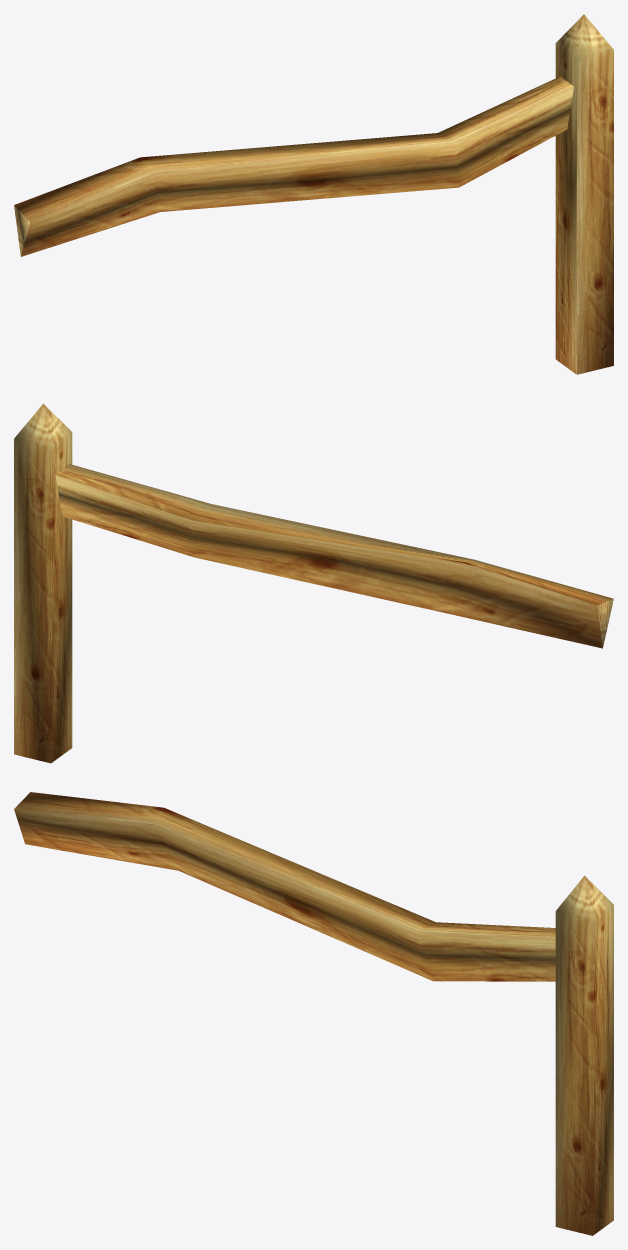
Rendered from elwynnfencetop.obj.
3 renders of one model, top to bottom at view 1: azimuth 30°, elevation 25°; view 2: azimuth 150°, elevation 25°; view 3: azimuth 330°, elevation 25°, orthographic.
Visible parts, largest first — view 1: elwynnfencetop; view 2: elwynnfencetop; view 3: elwynnfencetop.
Boxes of the visible parts, <box> form: elwynnfencetop: <box>14,14,613,374</box>; elwynnfencetop: <box>14,403,613,763</box>; elwynnfencetop: <box>14,792,613,1235</box>.
Bounding box in the file's own units: 4.3 × 2.46 × 0.3993.
1 material, 1 textured.
